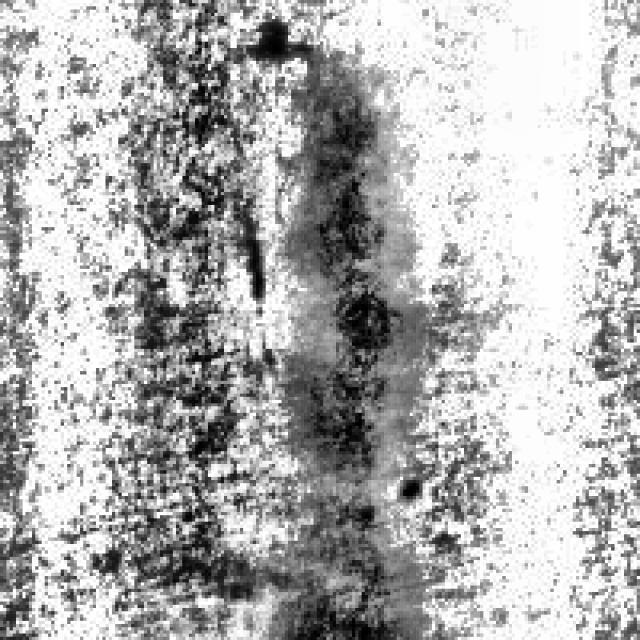Scratches: (275, 44, 410, 470), (259, 489, 419, 636)
